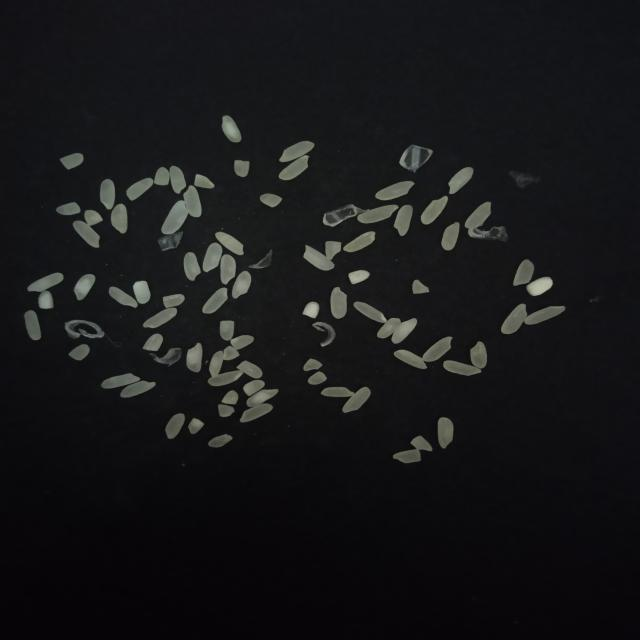Broken: (508, 170, 543, 189), (126, 178, 154, 201), (513, 259, 535, 286), (526, 277, 554, 296), (236, 360, 263, 379), (377, 318, 401, 338), (133, 280, 151, 304), (59, 153, 84, 170), (393, 449, 421, 464), (142, 334, 163, 352), (230, 335, 255, 350), (410, 436, 433, 452), (243, 380, 266, 396), (208, 433, 232, 448), (69, 344, 89, 361), (56, 202, 81, 215), (302, 301, 320, 319), (260, 194, 283, 208), (348, 270, 371, 284), (194, 174, 215, 189), (163, 294, 185, 308), (84, 210, 103, 226), (38, 290, 54, 309), (326, 241, 342, 260), (220, 320, 234, 341), (154, 167, 170, 185), (303, 358, 323, 372), (234, 160, 250, 177), (188, 418, 205, 434), (221, 390, 239, 405), (308, 371, 327, 385), (412, 279, 429, 294), (223, 346, 240, 360), (218, 404, 235, 417)
Full: (162, 200, 188, 235), (357, 204, 399, 224), (500, 304, 528, 334), (278, 155, 310, 181), (302, 245, 334, 271), (420, 196, 448, 225), (342, 386, 371, 414), (422, 336, 453, 362), (279, 140, 315, 162), (72, 220, 100, 248), (353, 302, 388, 324), (27, 272, 64, 292), (343, 231, 376, 253), (376, 181, 414, 200), (525, 306, 565, 324), (465, 202, 492, 228), (202, 287, 228, 314), (393, 349, 428, 369), (215, 232, 244, 256), (143, 308, 177, 328), (240, 403, 274, 423), (392, 318, 418, 344), (448, 167, 473, 194), (120, 380, 156, 398), (101, 373, 141, 389), (202, 242, 223, 272), (183, 185, 202, 218), (109, 287, 138, 308), (444, 360, 482, 376), (74, 274, 96, 301), (394, 205, 413, 236), (221, 115, 242, 143), (440, 222, 460, 251), (246, 389, 278, 407), (232, 271, 252, 299), (24, 310, 42, 341), (437, 417, 454, 449), (330, 287, 347, 319), (208, 371, 244, 386), (165, 413, 185, 439), (111, 204, 128, 234), (186, 342, 203, 372), (220, 254, 236, 285), (184, 252, 201, 281), (100, 179, 116, 209), (470, 341, 487, 369), (170, 166, 186, 194), (209, 351, 224, 378), (320, 387, 354, 397)
